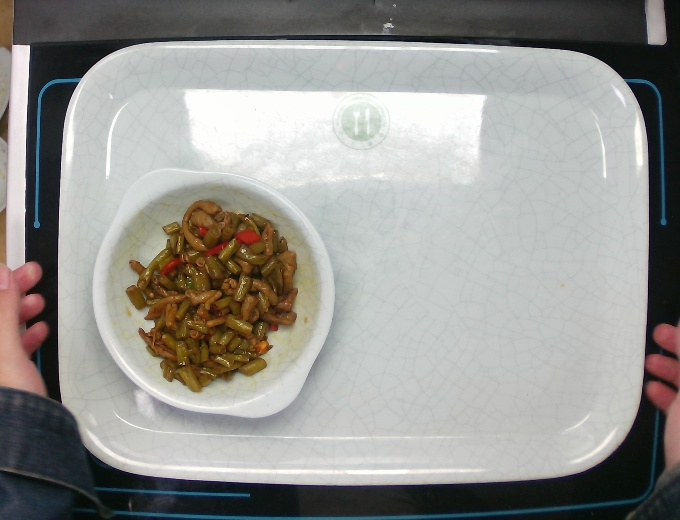JYsf-Shuang_Er_Wan: (89, 166, 335, 421)
